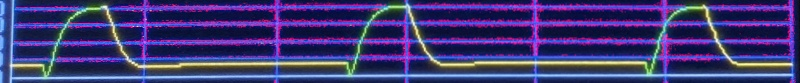leakage: (0, 0, 784, 83)
